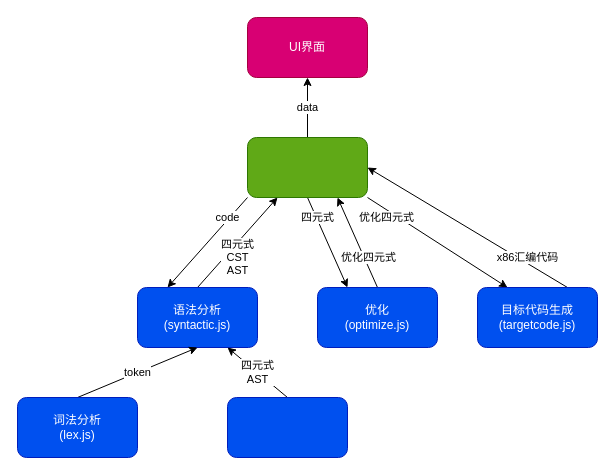
Some shapes in this 615 by 475 pixel diagram are drawn without their labels. The shapes that lost their labels are listed below. From the top down, each one's centre as x and y in pixels, then its label:
At [307,167]: "顶层 (jparser.js)".
At [287,427]: "语义分析 (semantic.js)".
